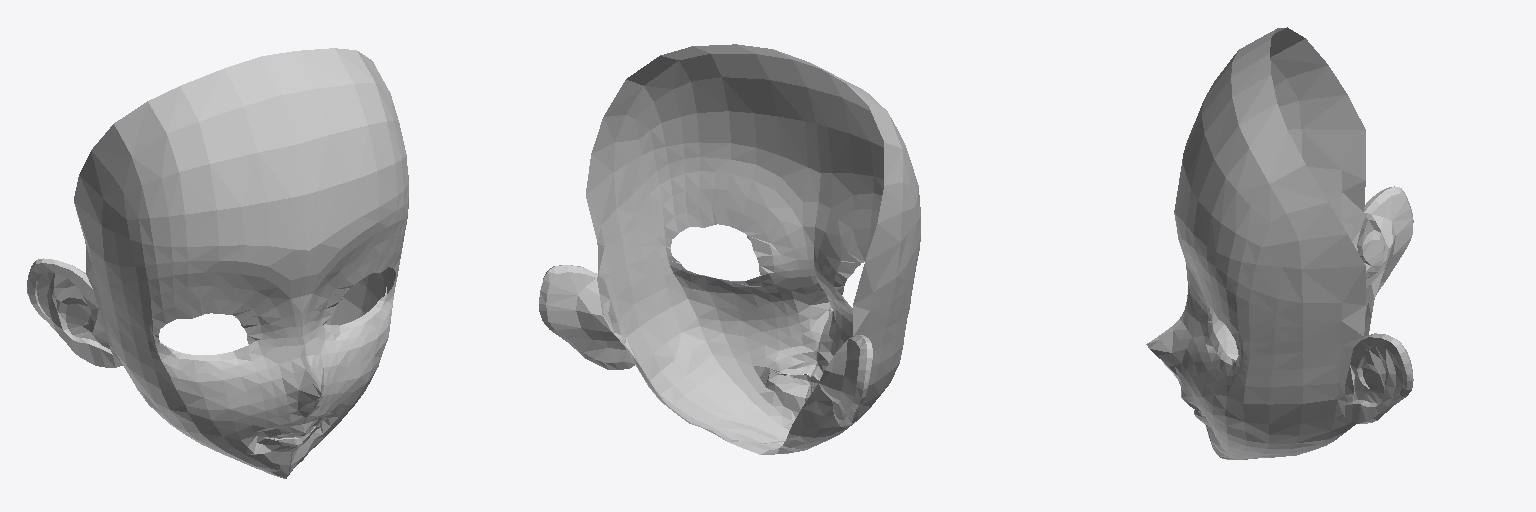
The picture shows the model from 3 angles: view 1: azimuth 30°, elevation 25°; view 2: azimuth 150°, elevation 25°; view 3: azimuth 270°, elevation 25°; orthographic projection.
Parts seen in each view (by area): view 1: TDA_Face_mesh.001_TDA_Face.001; view 2: TDA_Face_mesh.001_TDA_Face.001; view 3: TDA_Face_mesh.001_TDA_Face.001.
Part boxes in pixels (left/top/right/bottom): TDA_Face_mesh.001_TDA_Face.001: left=27, top=48, right=408, bottom=478; TDA_Face_mesh.001_TDA_Face.001: left=539, top=44, right=920, bottom=454; TDA_Face_mesh.001_TDA_Face.001: left=1146, top=27, right=1413, bottom=459.
Size of the model in its own units: 2.06 by 2.42 by 1.44.